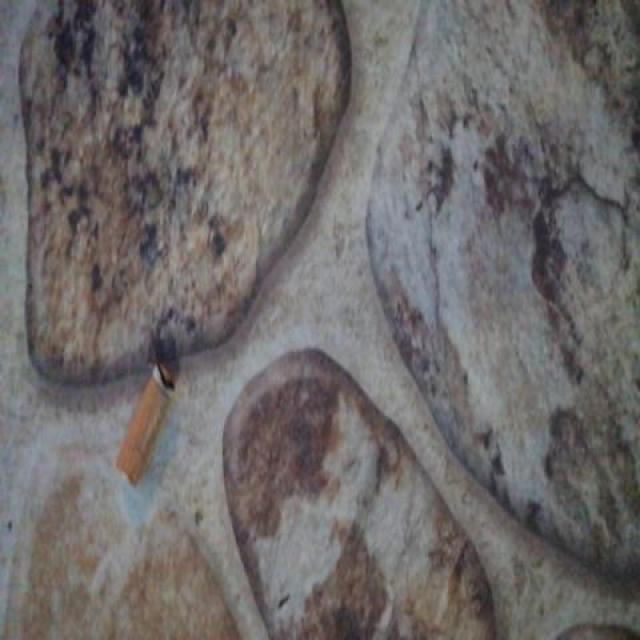non-organic waste: (110, 354, 179, 490)
